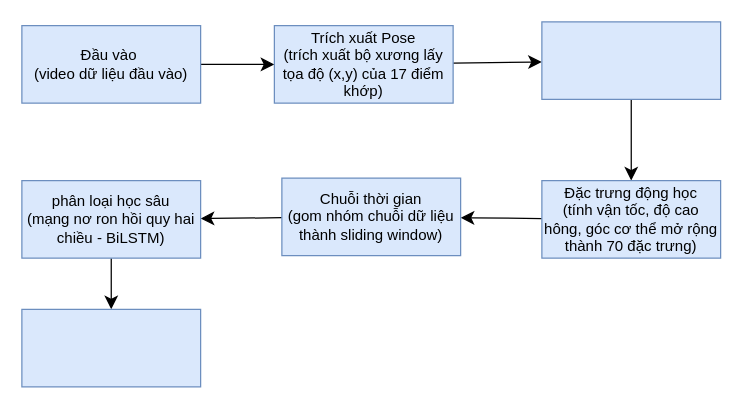
Some shapes in this 743 by 409 pixel diagram are drawn without their labels. Here are the shapes that lost their labels. From the top down, the centre of each, then its label:
(x=631, y=60): Làm sạch dữ liệu (lọc nhiễu và khôi phục dữ liệu bằng nội suy tuyến tính)
(x=111, y=347): Đầu ra (cảnh báo té ngã/ bình thường)
